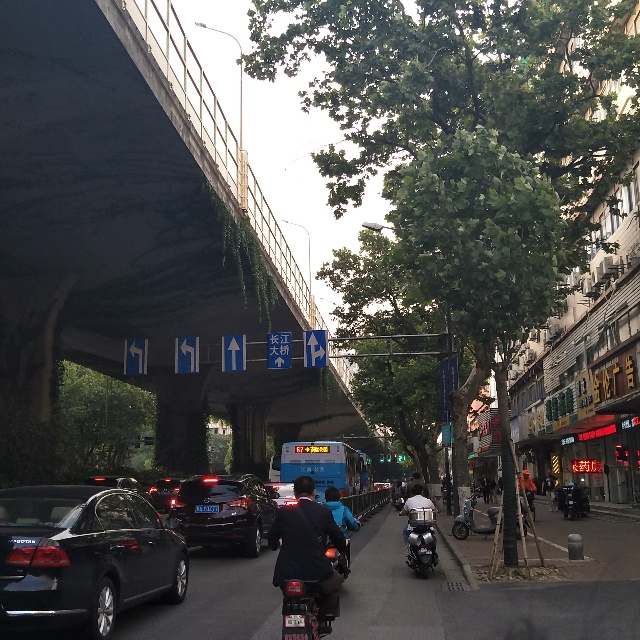left: (179, 336, 197, 374), (125, 341, 145, 374)
straight: (223, 334, 241, 371)
